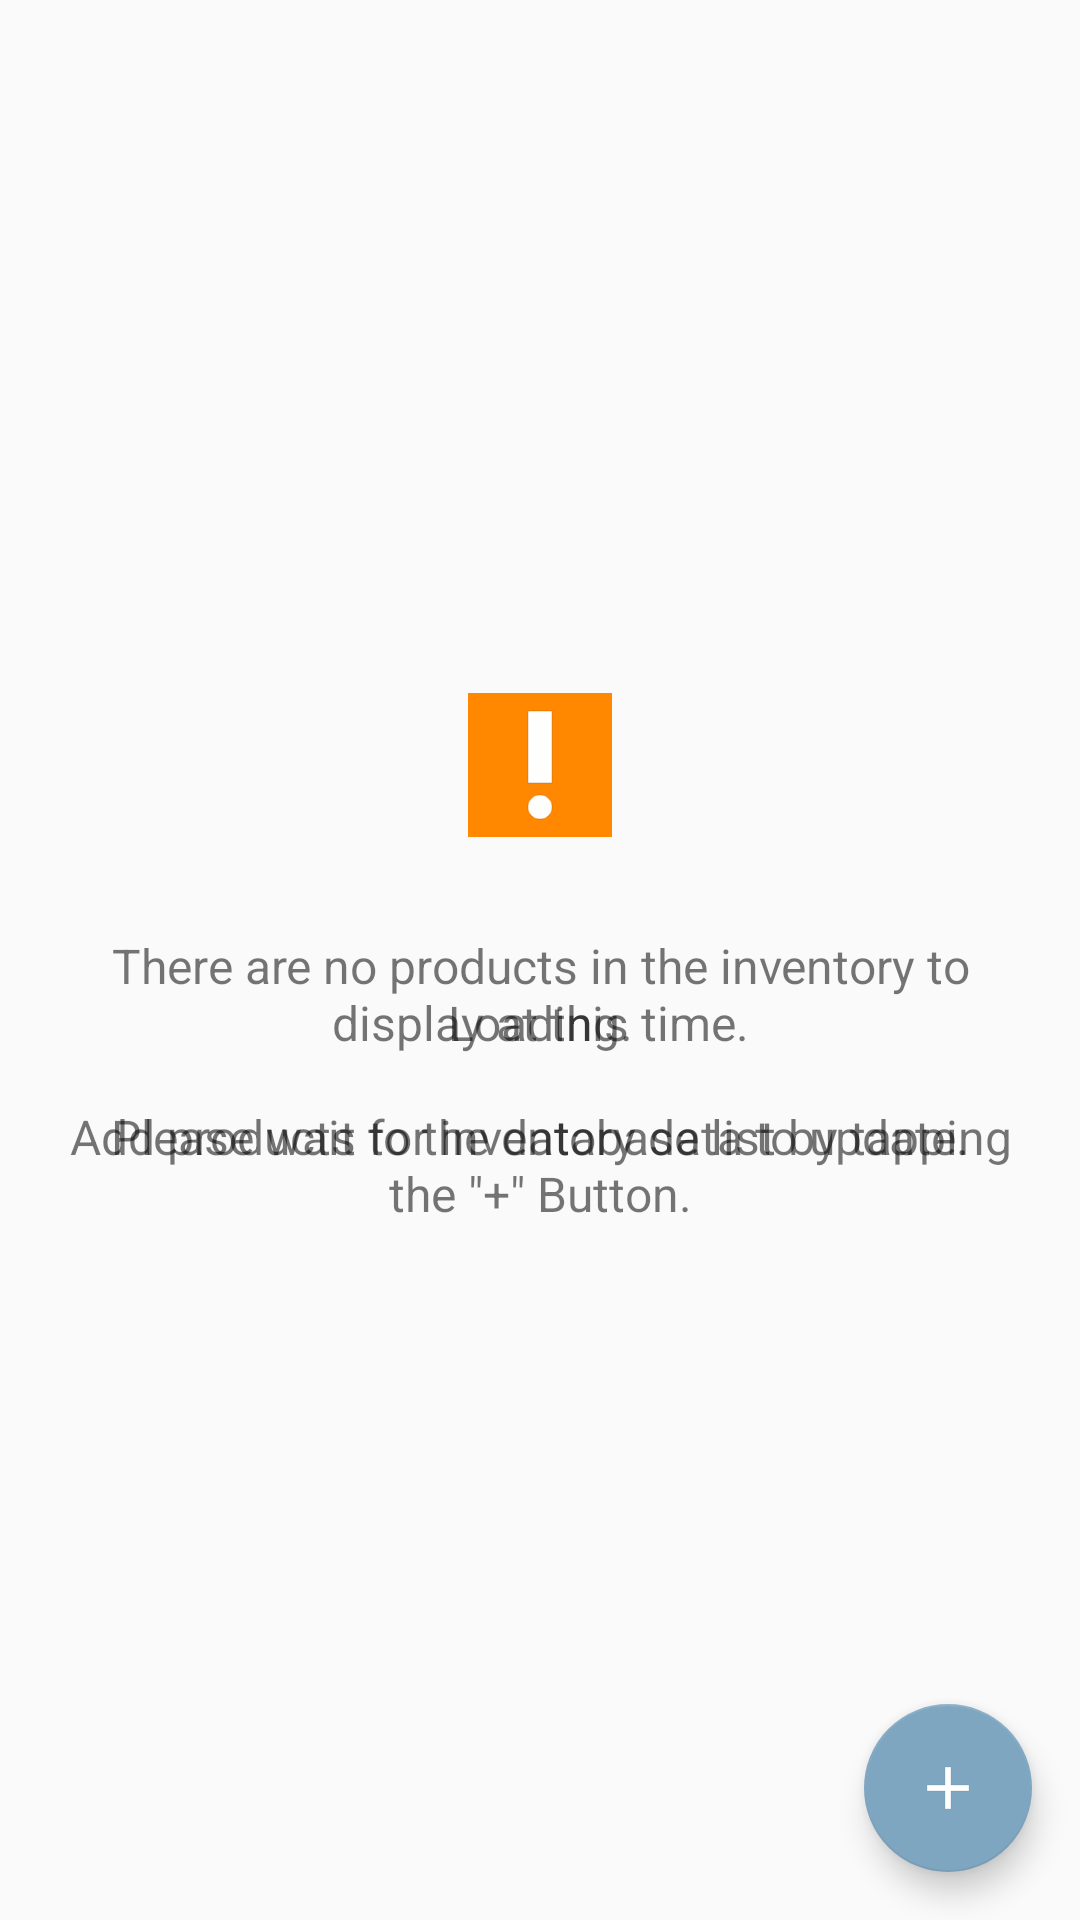

Icon click points for this 1080×1920 phone screenshot, format [x,y]:
add: [948,1788]
priority high: [540,765]
